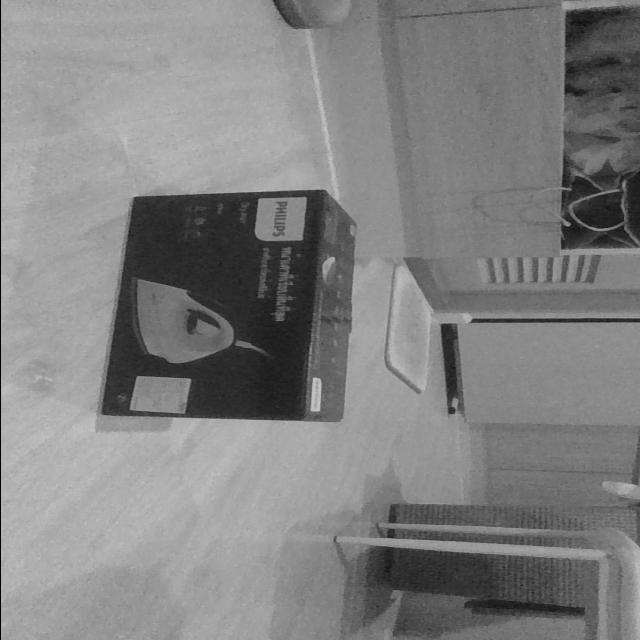IRON: (95, 187, 361, 425)
